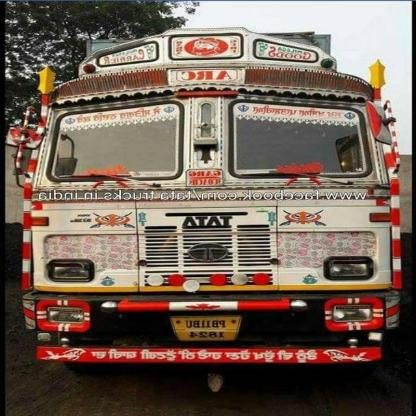truck: (40, 50, 384, 362)
